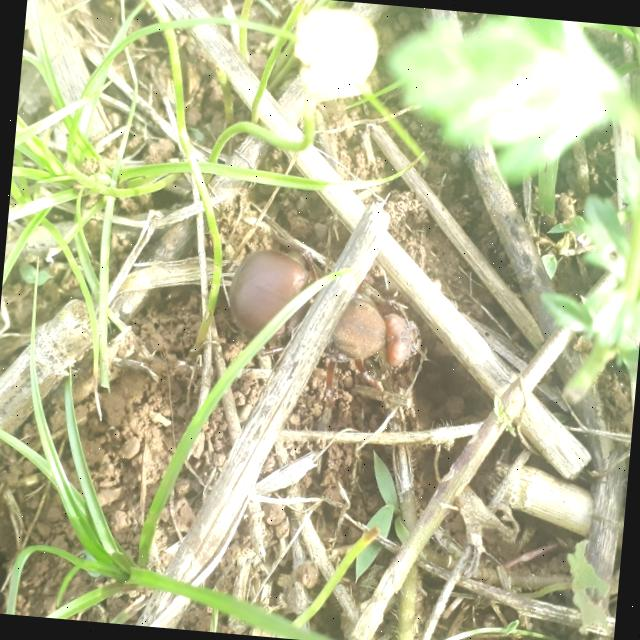Alive-Female-Dealate: (219, 245, 428, 418)
